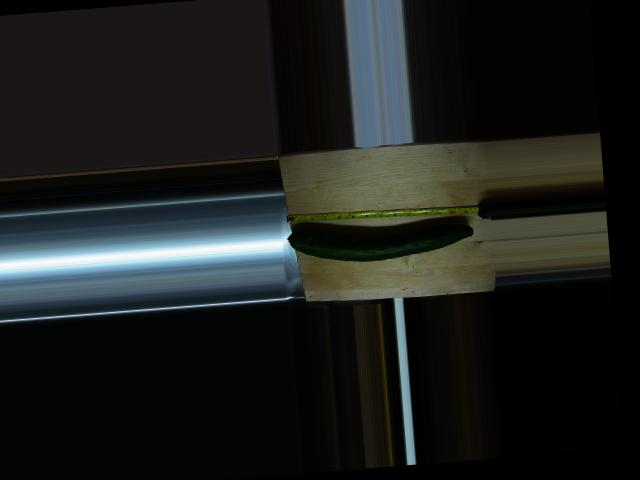cucumber: (287, 216, 475, 266)
